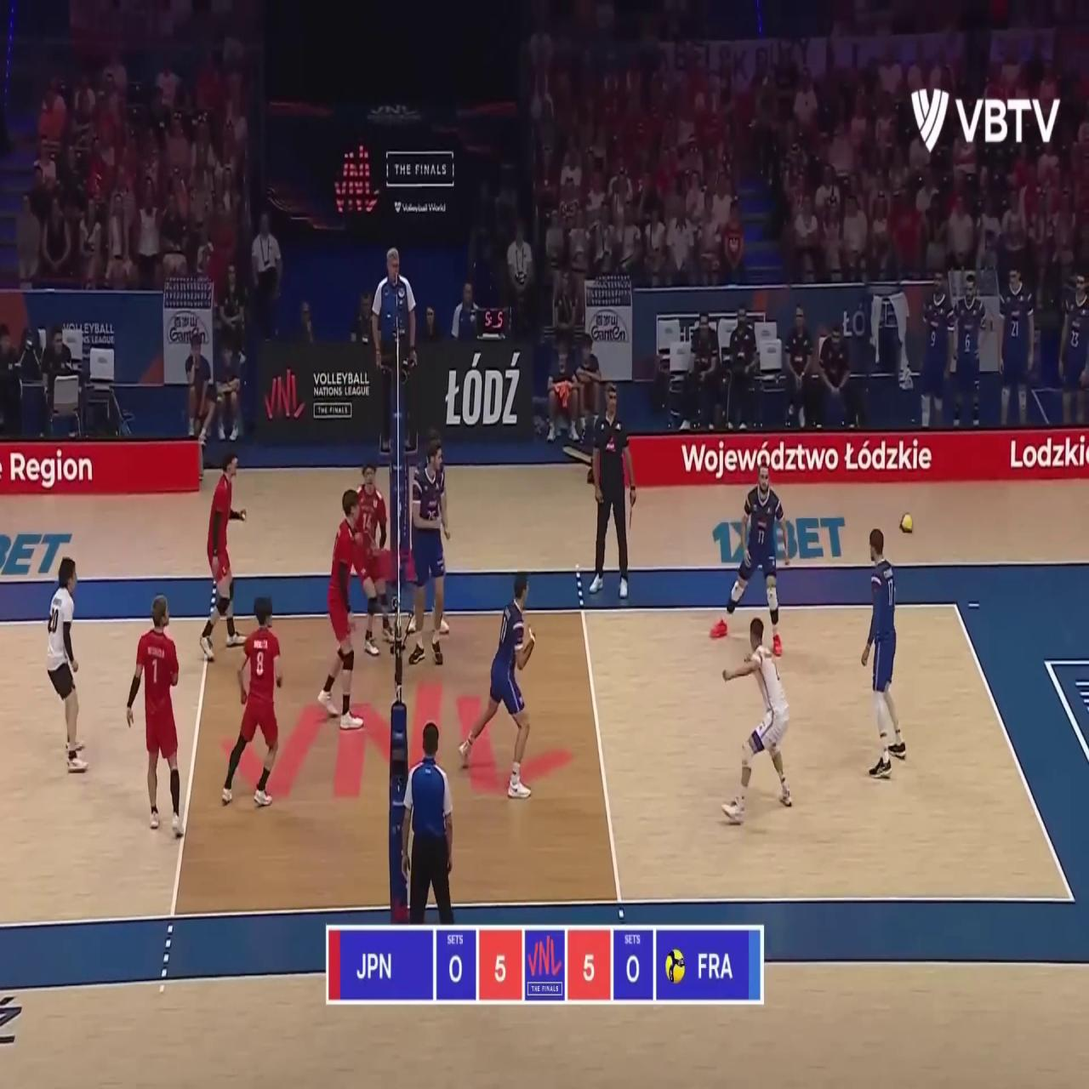ball: (900, 512, 914, 535)
